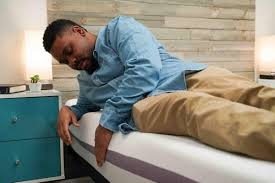bed-matress: (63, 86, 275, 183)
